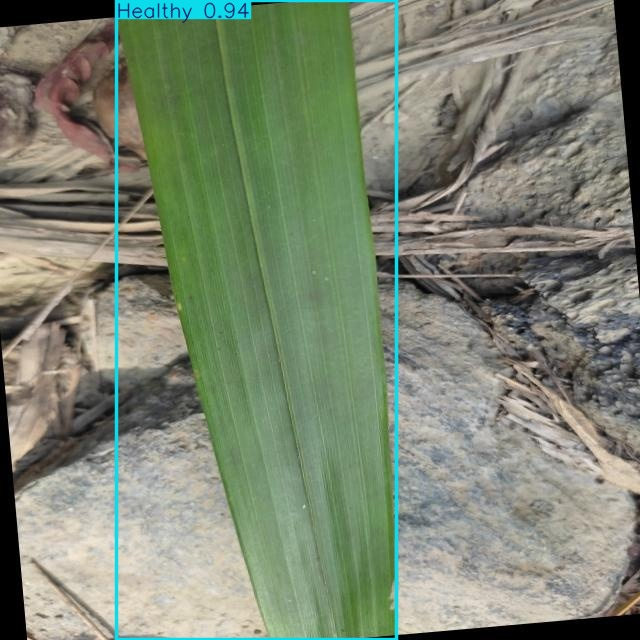Healthy: (117, 0, 396, 640)
